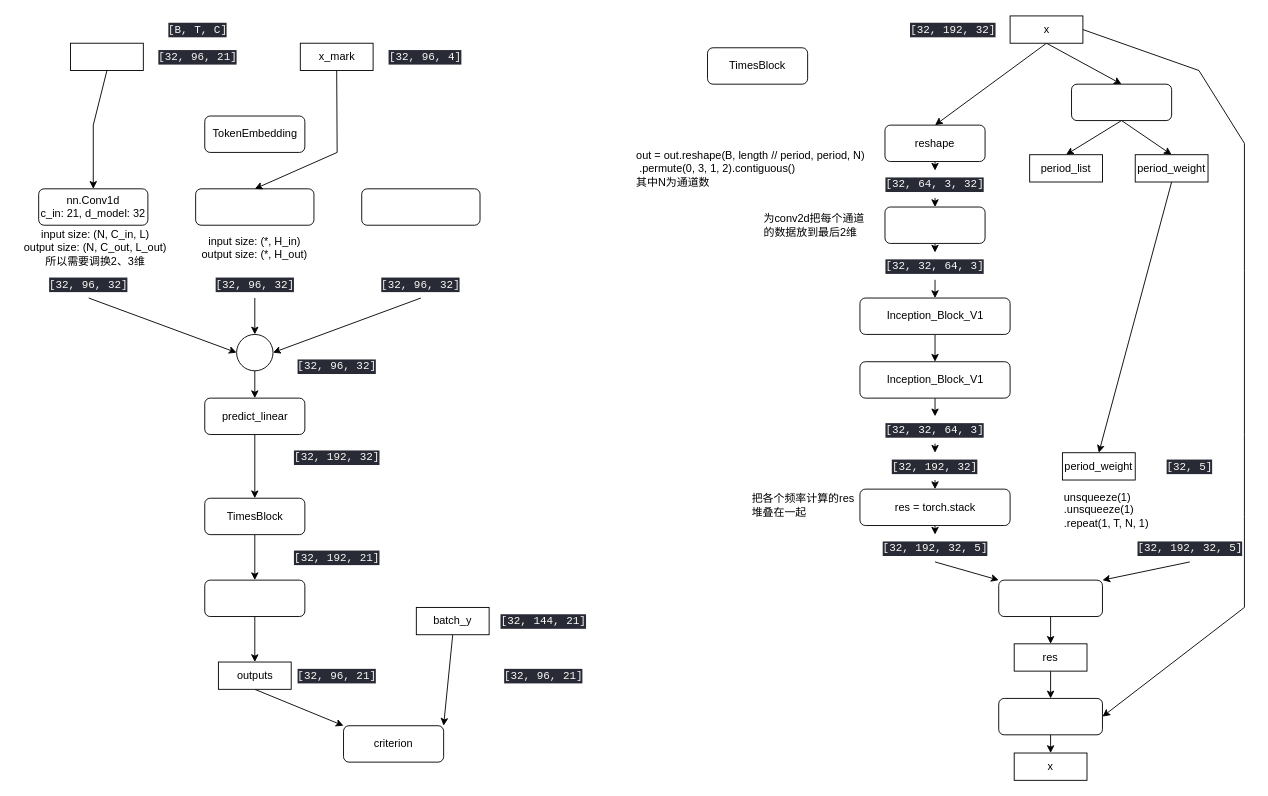
Some shapes in this 1268 by 796 pixel diagram are drawn without their labels. The shapes that lost their labels are listed below. From the top down, each one's centre as x and y in pixels, then its label:
[106,56]: x_enc
[1121,102]: FFT_for_period
[254,206]: nn.Linear d_inp: 4, d_model: 32
[420,206]: Position Embedding
[934,224]: permute
[254,352]: add
[254,598]: Slice
[1050,598]: res * weight, 把各个频率的值求和
[1050,716]: 残差连接，相加
